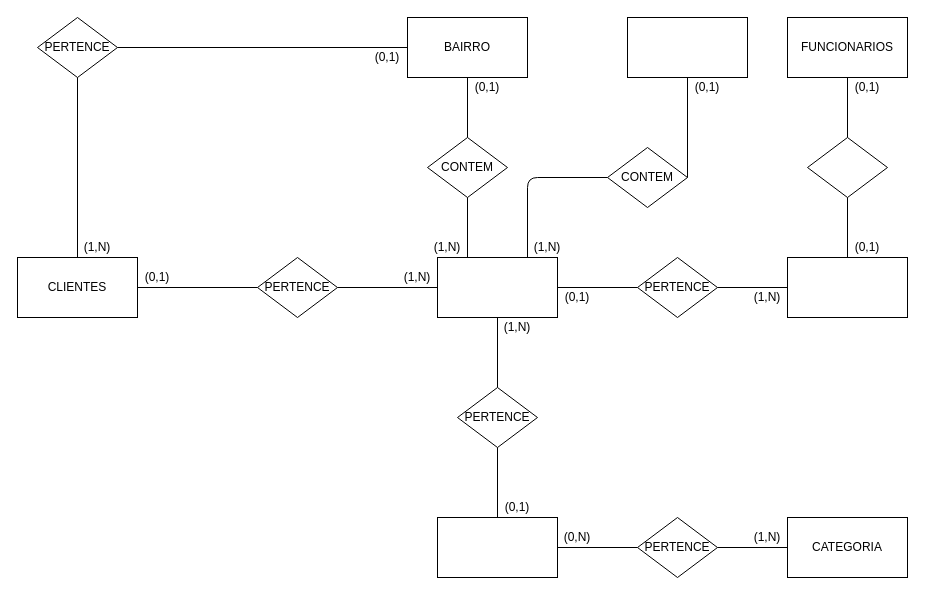
This 925x595 diagram has some shape labels left out. Each missing label, with the centre of its shape:
CARDAPIO: point 497,547
FORMA DEPAGAMENTO: point 687,47
LIGADO: point 847,167
PEDIDOS: point 497,287
VENDAS: point 847,287
